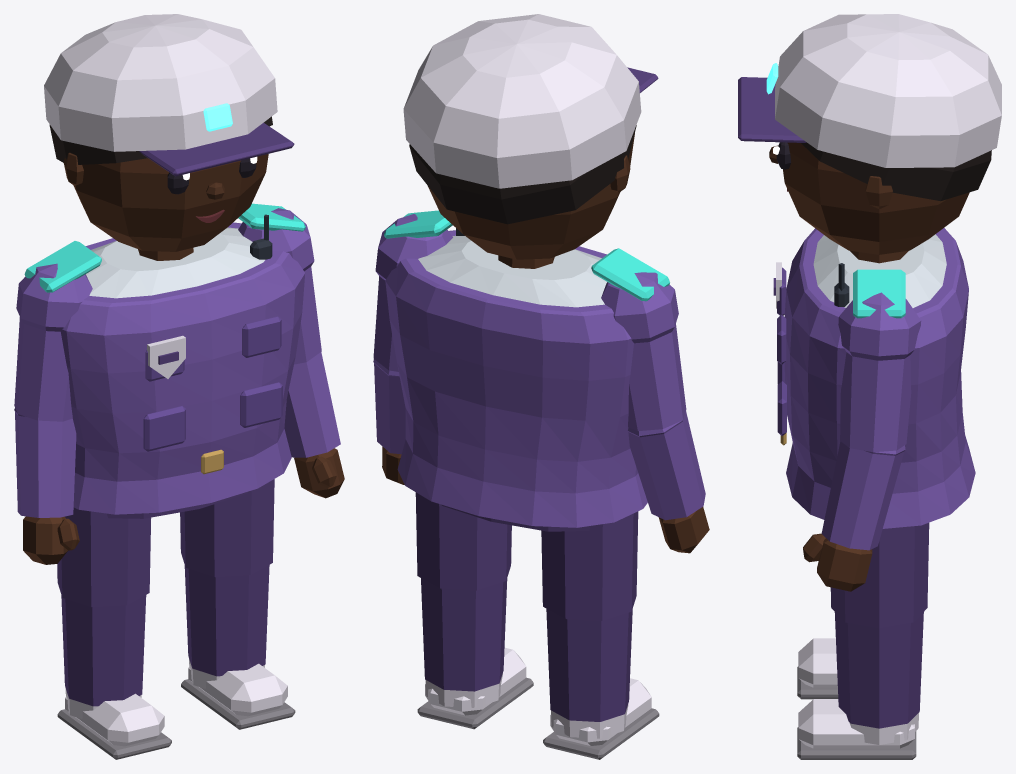
The model's file is sic_aby.glb.
The picture shows the model from 3 angles, left to right: view 1: azimuth 30°, elevation 25°; view 2: azimuth 150°, elevation 25°; view 3: azimuth 270°, elevation 25°; orthographic projection.
Visible parts, largest first — view 1: jacke, kopfbedeckung, bein_r, bein_l, arm_r, kopf, arm_l, torso, taschen, schuh_r, schuh_l, schulterklappen (+6 smaller); view 2: jacke, kopfbedeckung, bein_r, bein_l, arm_r, torso, haare, kopf, arm_l, schuh_l, schuh_r, schulterklappen (+1 smaller); view 3: kopfbedeckung, jacke, arm_l, bein_l, kopf, schuh_l, torso, haare, hand_l, schuh_r, schulterklappen, taschen (+2 smaller).
Boxes of the visible parts, left/top/right/bottom form: jacke: left=61, top=222, right=305, bottom=514; kopfbedeckung: left=44, top=14, right=294, bottom=176; bein_r: left=57, top=507, right=151, bottom=706; bein_l: left=180, top=479, right=274, bottom=676; arm_r: left=14, top=263, right=92, bottom=517; kopf: left=63, top=152, right=268, bottom=251; arm_l: left=238, top=208, right=340, bottom=457; torso: left=86, top=227, right=264, bottom=298; taschen: left=143, top=316, right=282, bottom=451; schuh_r: left=57, top=689, right=171, bottom=759; schuh_l: left=181, top=659, right=295, bottom=729; schulterklappen: left=24, top=203, right=305, bottom=292; jacke: left=385, top=230, right=647, bottom=527; kopfbedeckung: left=403, top=14, right=658, bottom=188; bein_r: left=541, top=511, right=638, bottom=721; bein_l: left=415, top=492, right=511, bottom=691; arm_r: left=601, top=272, right=705, bottom=520; torso: left=418, top=235, right=606, bottom=307; haare: left=409, top=125, right=636, bottom=224; kopf: left=428, top=133, right=634, bottom=259; arm_l: left=373, top=214, right=452, bottom=454; schuh_l: left=417, top=647, right=533, bottom=729; schuh_r: left=543, top=678, right=659, bottom=759; schulterklappen: left=384, top=210, right=669, bottom=301; kopfbedeckung: left=738, top=14, right=1001, bottom=167; jacke: left=784, top=228, right=975, bottom=528; arm_l: left=821, top=292, right=921, bottom=550; bein_l: left=830, top=522, right=929, bottom=728; kopf: left=783, top=142, right=969, bottom=254; schuh_l: left=797, top=699, right=919, bottom=759; torso: left=813, top=234, right=946, bottom=307; haare: left=801, top=142, right=991, bottom=201; hand_l: left=803, top=533, right=872, bottom=591; schuh_r: left=797, top=638, right=838, bottom=699; schulterklappen: left=853, top=269, right=905, bottom=318; taschen: left=777, top=267, right=786, bottom=435.
Size of the model in its own units: 0.0127 by 0.0259 by 0.00903.
